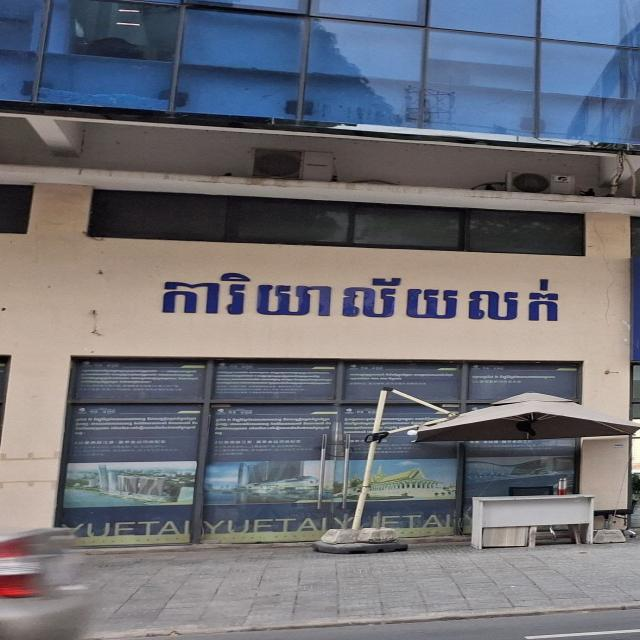Yolov11kh: (110, 246, 618, 360)
